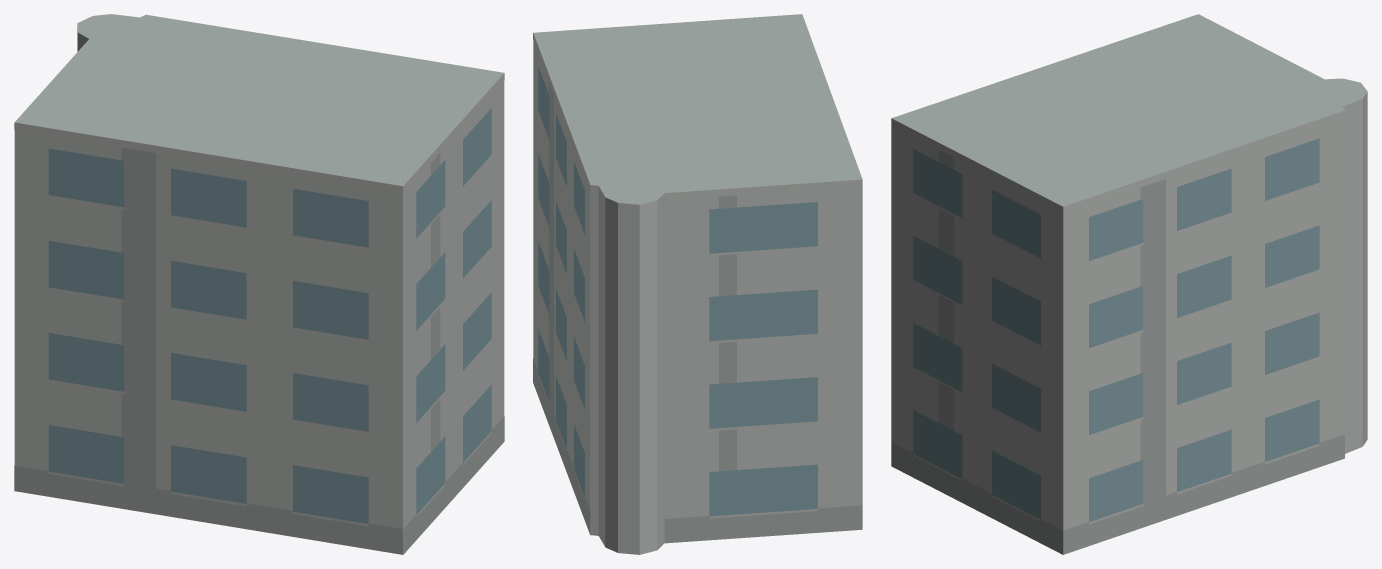
File: residential-3c25b145-6423-4334-9303-c942bc8c0c50.glb
The picture shows the model from 3 angles, left to right: view 1: azimuth 30°, elevation 25°; view 2: azimuth 150°, elevation 25°; view 3: azimuth 270°, elevation 25°; orthographic projection. The views are drawn at different scales.
Visible parts, largest first — view 1: residential-3c25b145-6423-4334-9303-c942bc8c0c50.tmp; view 2: residential-3c25b145-6423-4334-9303-c942bc8c0c50.tmp; view 3: residential-3c25b145-6423-4334-9303-c942bc8c0c50.tmp.
Part boxes in pixels (left/top/right/bottom): residential-3c25b145-6423-4334-9303-c942bc8c0c50.tmp: left=14, top=14, right=504, bottom=554; residential-3c25b145-6423-4334-9303-c942bc8c0c50.tmp: left=533, top=14, right=862, bottom=554; residential-3c25b145-6423-4334-9303-c942bc8c0c50.tmp: left=891, top=14, right=1367, bottom=554.
Bounding box in the file's own units: 14.08 × 11.85 × 14.7.
